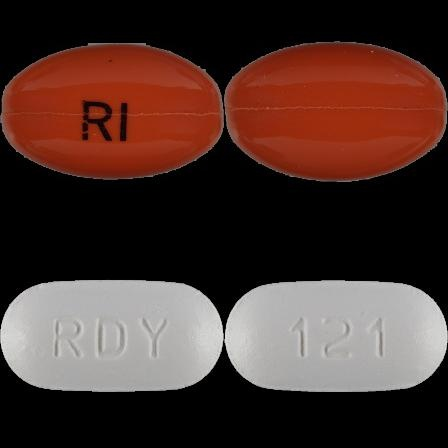55111-113: (0, 0, 224, 224)
